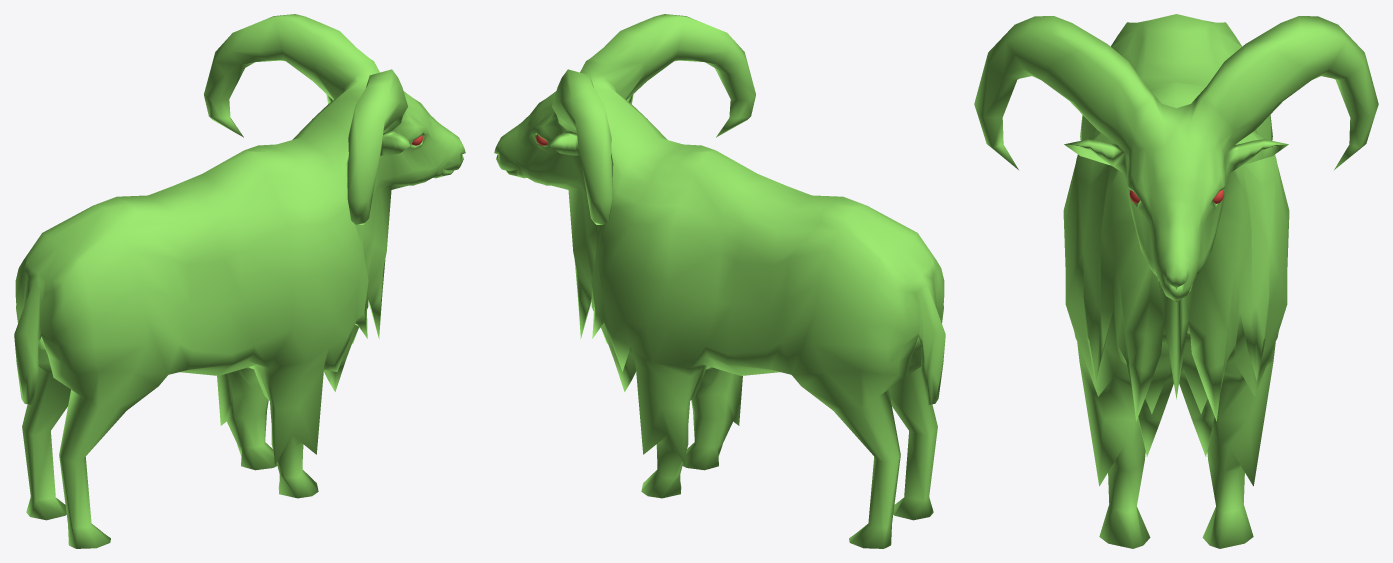
Rendered from lammasfixed2.fbx.
3 views of the same model, side by side, from view 1: azimuth 30°, elevation 25°; view 2: azimuth 150°, elevation 25°; view 3: azimuth 270°, elevation 25° (orthographic). The views are drawn at different scales.
Visible parts, largest first — view 1: lammas; view 2: lammas; view 3: lammas.
Part boxes in pixels (x1,y1,x2,y2): lammas: (14, 14, 465, 548); lammas: (494, 14, 945, 548); lammas: (974, 14, 1378, 548).
Bounding box in the file's own units: 409 × 361 × 242.
